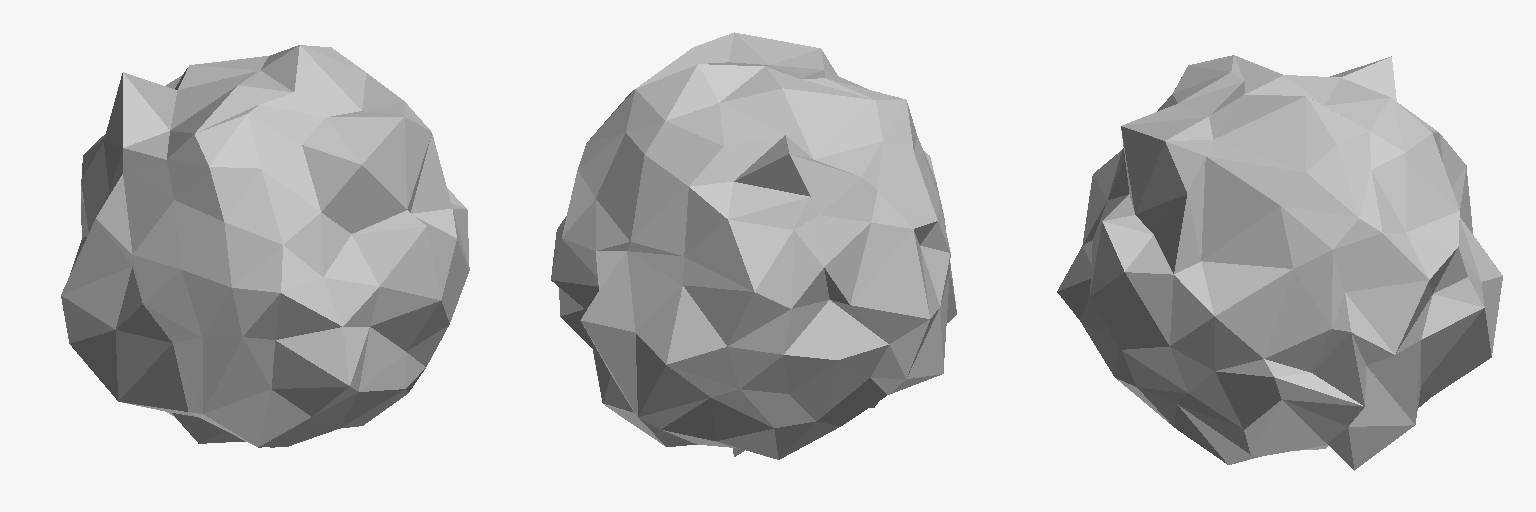
The model's file is fire_000003.obj.
The picture shows the model from 3 angles: view 1: azimuth 30°, elevation 25°; view 2: azimuth 150°, elevation 25°; view 3: azimuth 270°, elevation 25°; orthographic projection.
Visible parts, largest first — view 1: Icosphere; view 2: Icosphere; view 3: Icosphere.
Part boxes in pixels (x1,y1,x2,y2): Icosphere: (61,45,469,447); Icosphere: (551,32,956,459); Icosphere: (1057,55,1502,470).
Size of the model in its own units: 1.55 by 1.56 by 1.68.